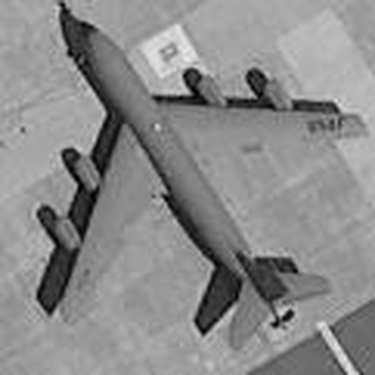airplane: (27, 8, 369, 356)
